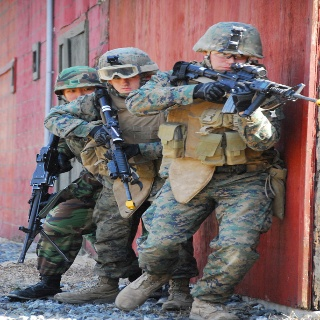rifle: (166, 60, 320, 121), (15, 127, 70, 265), (90, 87, 147, 211)
